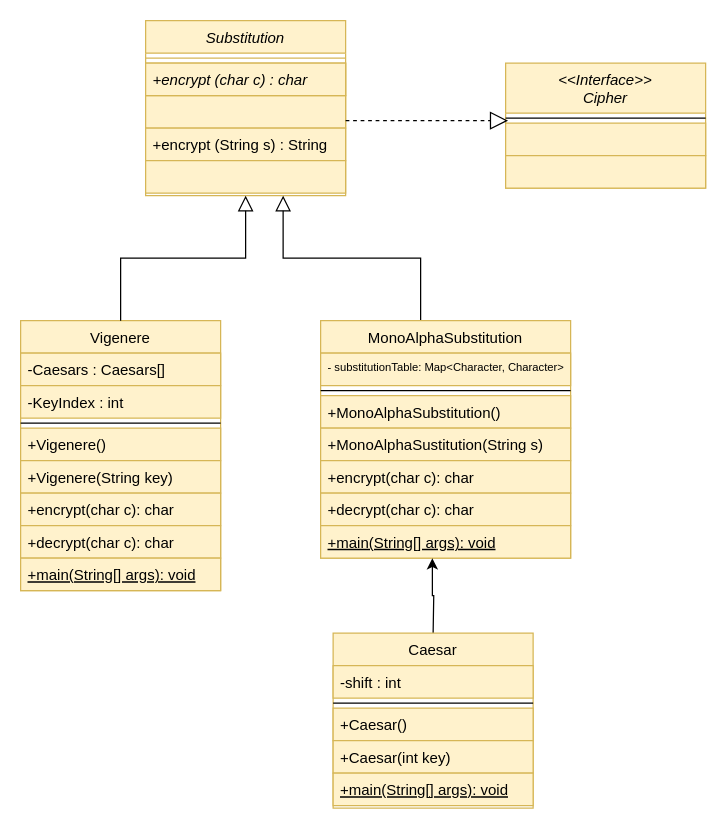
Some shapes in this 726 by 829 pixel diagram are drawn without their labels. Here are the shapes that lost their labels. From the top down, the centre of each, then its label:
the point at 245,111: +decrypt (char c) : char
the point at 605,139: +encrypt(String S): String
the point at 245,176: +decrypt (String s) : String
the point at 605,171: +decrypt(String S): String
